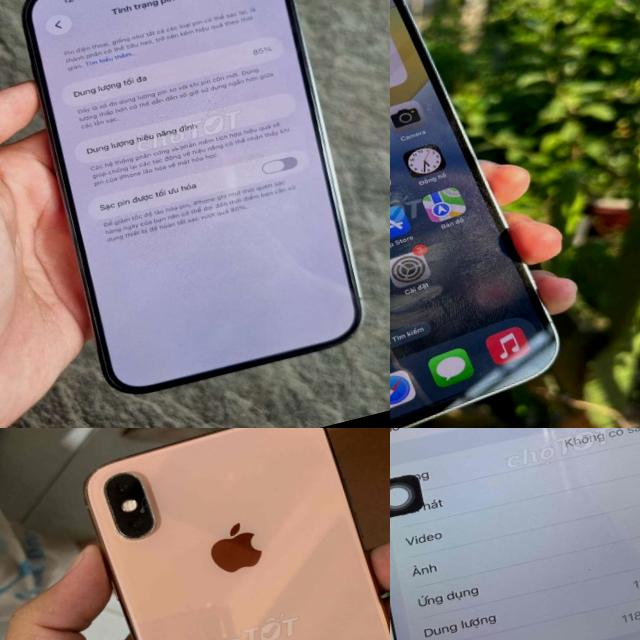gen_14: (0, 0, 390, 411), (390, 0, 578, 428)
gen_7_8: (390, 428, 640, 640)
gen_x_xs: (44, 428, 390, 640)
physical_damage: (129, 488, 163, 518)
scratch: (92, 492, 124, 536), (90, 468, 128, 491)
